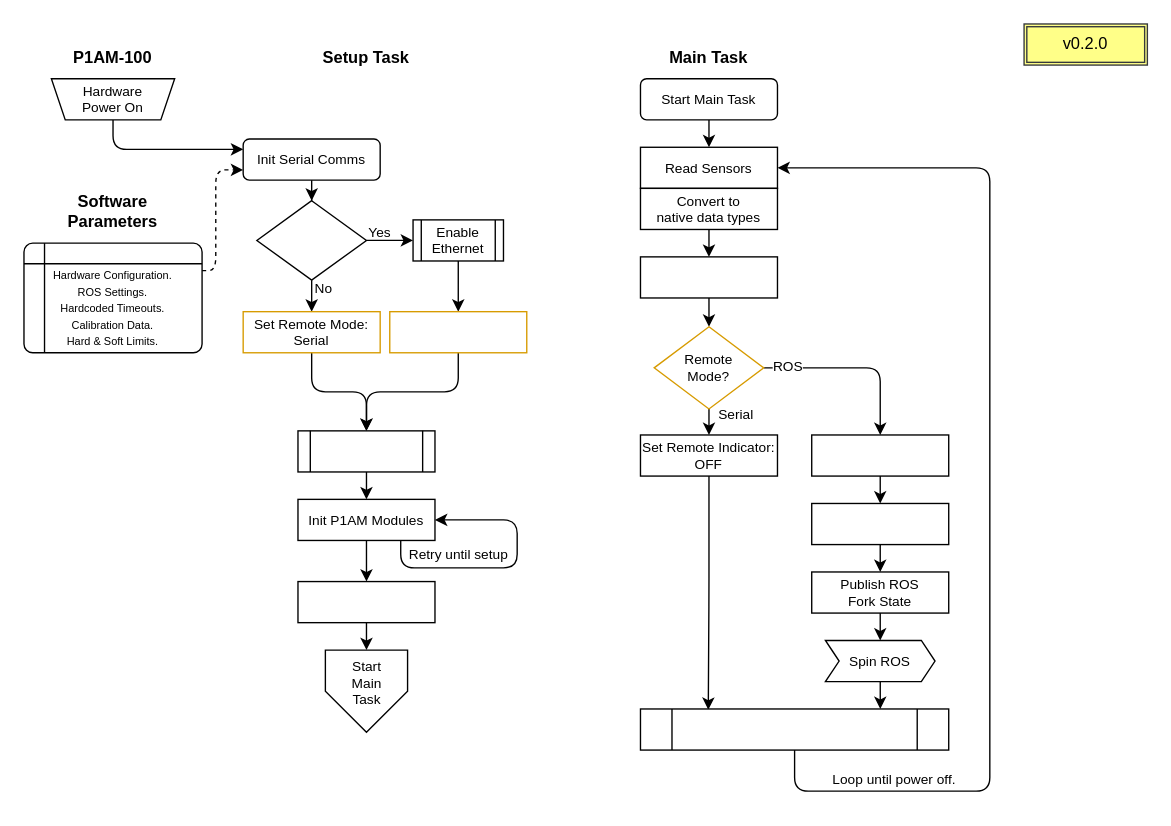
The diagram is 1171 pixels wide and 826 high, and some of its shapes have lost their labels. Here are the shapes that lost their labels. From the top down, the centre of each, then its label:
At [311,239]: "Enable Network?".
At [708,277]: "Report Serial Data".
At [457,331]: "Set Remote Mode: ROS".
At [366,450]: "Setup ROS".
At [879,455]: "Set Remote Indicator: ON".
At [879,523]: "Publish ROS Joint State".
At [366,601]: "Init Sensors & Indicators".
At [794,729]: "Motion Controller".
